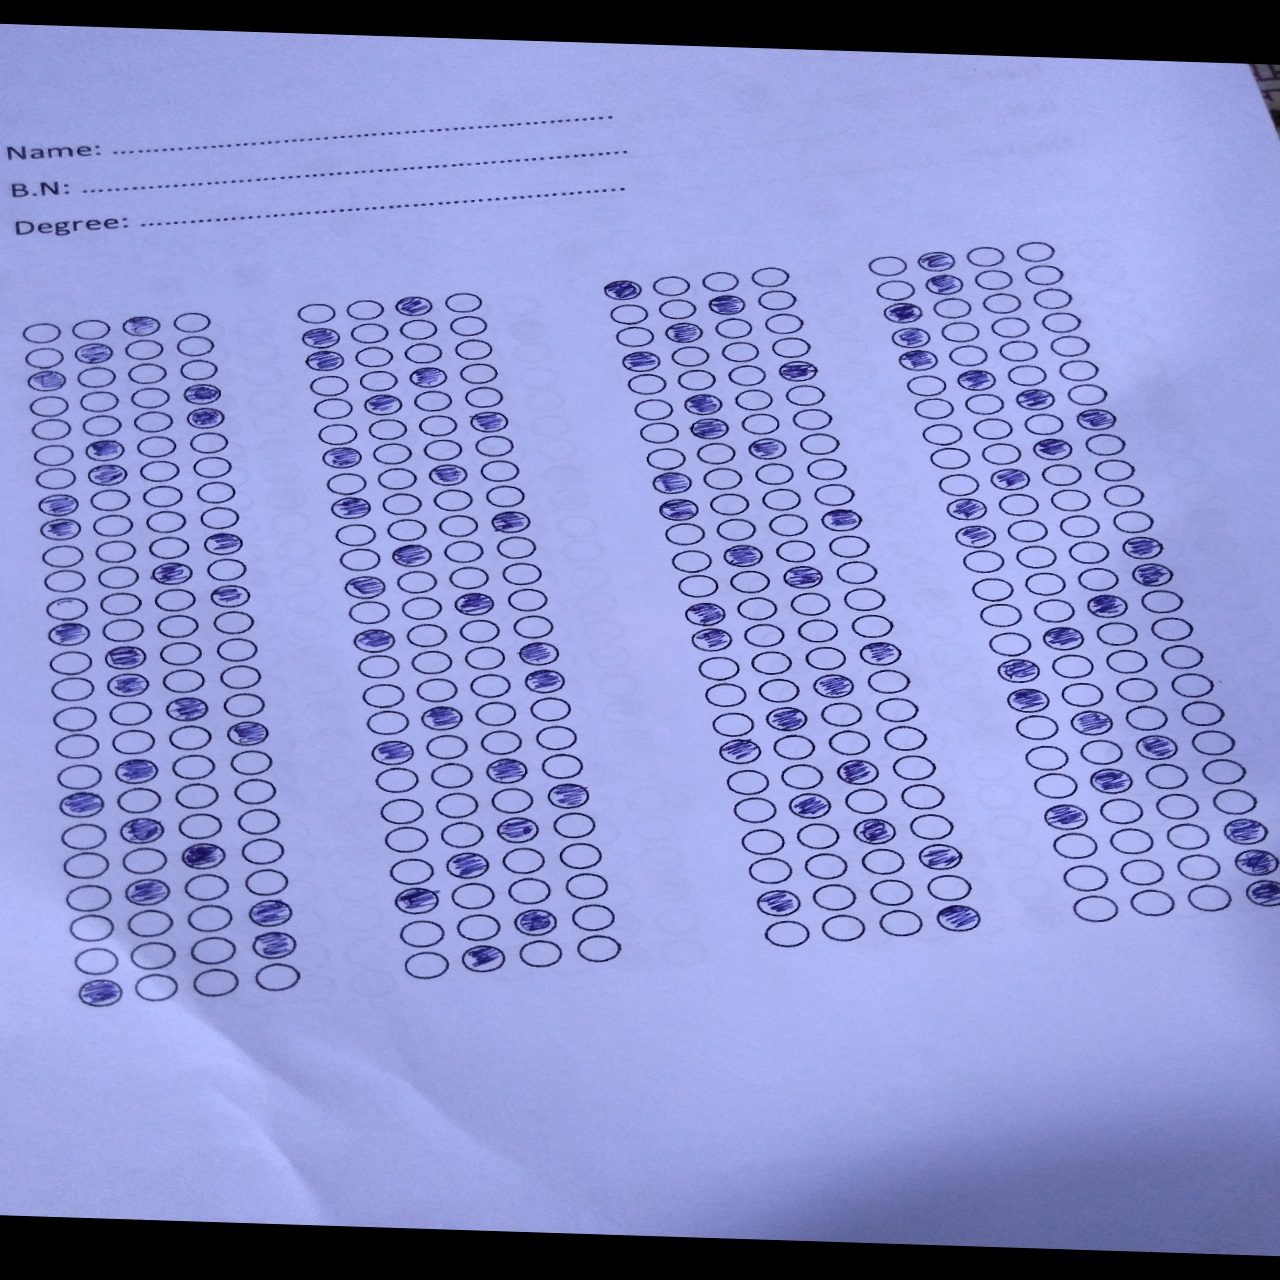not-c: (566, 903, 621, 933), (516, 939, 568, 971), (574, 932, 626, 964), (396, 915, 448, 947), (400, 949, 452, 980), (252, 961, 302, 992), (379, 825, 433, 853), (445, 881, 499, 910), (129, 940, 178, 971), (434, 821, 486, 849), (428, 792, 481, 821), (564, 873, 617, 901), (557, 840, 610, 869), (1103, 647, 1151, 678), (501, 847, 554, 874), (551, 811, 602, 839), (452, 913, 504, 941), (924, 872, 971, 903), (880, 721, 927, 751), (1190, 727, 1237, 757), (750, 647, 797, 678), (723, 765, 770, 796), (1142, 762, 1189, 792), (1073, 893, 1121, 922), (762, 919, 810, 948), (890, 753, 938, 782), (1169, 670, 1217, 700), (737, 828, 785, 857), (899, 781, 945, 811), (1180, 697, 1226, 728), (1014, 713, 1060, 743), (505, 877, 557, 904), (483, 787, 535, 813), (182, 873, 229, 903), (62, 850, 109, 879), (57, 821, 104, 850), (64, 883, 111, 912), (811, 881, 858, 911), (1128, 887, 1175, 917), (1108, 828, 1155, 857), (906, 811, 953, 840), (866, 877, 913, 906), (1164, 822, 1211, 851), (862, 846, 908, 876), (795, 822, 842, 851), (826, 728, 873, 757), (873, 693, 920, 722), (867, 668, 914, 697), (1151, 614, 1198, 644), (1123, 702, 1170, 731), (1201, 757, 1248, 787), (1023, 743, 1070, 772), (695, 653, 742, 682), (802, 644, 849, 673), (731, 796, 778, 825), (1076, 736, 1123, 765), (1097, 796, 1144, 825), (1155, 792, 1201, 822), (849, 612, 896, 641), (1051, 832, 1099, 860), (1175, 853, 1223, 881), (1160, 642, 1208, 670), (1092, 620, 1141, 648), (190, 968, 236, 998), (1119, 857, 1165, 886), (1061, 863, 1107, 892), (1212, 788, 1258, 817), (1185, 884, 1231, 913), (843, 785, 888, 815), (818, 701, 864, 730), (779, 762, 825, 791), (770, 731, 816, 761), (709, 708, 755, 737), (701, 681, 747, 710), (755, 675, 801, 704), (1051, 652, 1097, 681), (1061, 680, 1107, 709), (243, 869, 290, 897), (73, 946, 120, 974), (132, 973, 179, 1001), (125, 908, 172, 937), (876, 908, 922, 937), (803, 850, 850, 878), (745, 856, 792, 884), (1114, 676, 1160, 704), (985, 629, 1032, 658), (842, 584, 888, 612), (107, 697, 152, 726), (155, 639, 200, 667), (535, 724, 580, 753), (529, 695, 574, 723), (115, 785, 161, 813), (184, 904, 230, 932), (56, 763, 102, 791), (69, 913, 115, 941), (833, 558, 879, 586), (190, 937, 237, 964), (1032, 772, 1078, 799), (219, 663, 264, 692), (54, 731, 98, 760), (356, 653, 401, 681), (374, 765, 418, 794), (828, 533, 872, 561), (52, 704, 97, 731), (98, 617, 144, 644), (98, 590, 144, 617), (94, 561, 139, 588), (161, 667, 206, 694), (469, 672, 515, 699), (462, 644, 508, 670), (457, 617, 503, 644), (413, 676, 458, 703), (400, 595, 445, 622), (360, 682, 406, 709), (379, 797, 424, 824), (175, 782, 220, 809), (234, 808, 280, 835), (121, 847, 166, 874), (799, 617, 843, 645), (156, 613, 200, 640), (540, 753, 585, 779), (49, 675, 94, 702), (45, 595, 89, 622), (166, 724, 211, 751), (424, 733, 469, 760), (409, 648, 454, 675), (404, 620, 449, 647), (365, 708, 409, 735), (430, 762, 475, 789), (178, 812, 223, 839), (172, 753, 217, 779), (389, 858, 434, 885), (969, 577, 1014, 604), (961, 550, 1006, 577), (871, 275, 915, 302), (445, 561, 490, 588), (394, 568, 440, 594), (733, 595, 778, 621), (1080, 433, 1125, 458), (447, 564, 492, 590), (75, 365, 118, 392), (50, 649, 94, 676), (113, 728, 156, 755), (760, 486, 803, 513), (930, 445, 973, 472), (978, 440, 1021, 467), (224, 692, 268, 717), (216, 636, 260, 662), (481, 728, 525, 754), (472, 700, 517, 726), (512, 611, 557, 636), (239, 838, 284, 864), (227, 750, 272, 776), (979, 602, 1023, 628), (1032, 597, 1076, 622), (788, 590, 832, 615), (804, 456, 849, 482), (767, 510, 811, 536), (772, 537, 817, 563), (697, 268, 742, 294), (1110, 509, 1155, 535), (1065, 540, 1110, 566), (694, 441, 738, 467), (699, 467, 743, 492), (714, 516, 758, 542), (660, 522, 704, 547), (1039, 309, 1083, 335), (1022, 261, 1067, 287), (993, 493, 1037, 519), (939, 318, 983, 343), (1058, 358, 1103, 383), (178, 358, 220, 384), (1051, 486, 1094, 513), (1101, 483, 1146, 508), (918, 421, 964, 445), (170, 309, 213, 335), (122, 335, 165, 361), (212, 610, 256, 635), (232, 778, 275, 804), (1024, 571, 1068, 597), (728, 568, 771, 594), (755, 463, 798, 489), (1141, 590, 1184, 615), (709, 490, 753, 516), (676, 573, 720, 599), (911, 395, 954, 421), (1094, 457, 1137, 483), (29, 393, 70, 420), (42, 542, 83, 568), (1014, 545, 1058, 570), (1075, 567, 1119, 592), (742, 622, 787, 647), (1048, 333, 1092, 358), (749, 264, 794, 288), (931, 297, 975, 321), (1067, 383, 1111, 408), (345, 297, 387, 322), (294, 299, 336, 325), (20, 319, 62, 345), (903, 372, 945, 397), (798, 431, 840, 457), (505, 586, 549, 611), (348, 599, 392, 624), (1007, 518, 1050, 543), (813, 482, 857, 506), (1058, 515, 1102, 539), (937, 474, 980, 498), (644, 445, 687, 470), (1032, 286, 1075, 311), (865, 252, 908, 277), (1040, 463, 1083, 488), (947, 343, 990, 368), (964, 392, 1007, 416), (971, 417, 1014, 442), (72, 316, 113, 342), (433, 488, 474, 513), (418, 414, 459, 440), (452, 338, 493, 363), (89, 486, 130, 512), (136, 434, 177, 459), (191, 454, 232, 479), (335, 522, 376, 547), (45, 566, 86, 592), (1024, 413, 1069, 436), (998, 339, 1042, 362), (980, 293, 1024, 316), (22, 343, 64, 368), (154, 586, 196, 611), (669, 343, 712, 368), (738, 411, 781, 436), (307, 373, 347, 399), (353, 343, 393, 369), (209, 556, 248, 581), (1005, 365, 1050, 387), (668, 549, 712, 572), (316, 421, 358, 445), (399, 318, 440, 342), (478, 458, 519, 483), (462, 384, 503, 409), (38, 467, 79, 491), (79, 389, 120, 414), (142, 483, 183, 508), (377, 467, 418, 491), (501, 561, 542, 586), (496, 536, 537, 560), (486, 483, 527, 508), (731, 388, 774, 411), (712, 316, 754, 340), (784, 383, 826, 407), (625, 372, 667, 395), (367, 416, 407, 441), (186, 430, 226, 455), (127, 360, 166, 384), (402, 340, 442, 365), (474, 433, 513, 457), (442, 290, 482, 314), (82, 414, 122, 438), (139, 458, 179, 483), (381, 490, 421, 515), (372, 442, 411, 467), (149, 536, 189, 560), (639, 421, 679, 445), (388, 518, 428, 543), (971, 268, 1014, 291), (989, 315, 1033, 338), (347, 321, 388, 345), (130, 384, 171, 408), (411, 390, 452, 414), (422, 438, 463, 462), (30, 418, 72, 442), (198, 505, 239, 529), (325, 472, 366, 496), (96, 539, 137, 563), (340, 546, 381, 570), (719, 339, 760, 362), (791, 407, 832, 430), (675, 367, 716, 390), (649, 274, 690, 298), (610, 325, 651, 348), (610, 301, 651, 325), (632, 397, 674, 420), (315, 396, 355, 420), (132, 409, 172, 433), (358, 368, 397, 392), (450, 315, 490, 339), (34, 443, 74, 467), (93, 512, 132, 536), (147, 509, 186, 532), (196, 479, 236, 503), (444, 539, 484, 563), (438, 515, 478, 538), (1016, 239, 1056, 263), (756, 290, 796, 313), (763, 313, 803, 336), (173, 335, 215, 358), (654, 297, 695, 319), (726, 363, 765, 386), (770, 335, 810, 358), (966, 244, 1006, 266), (459, 362, 498, 384)
taken-c: (459, 942, 509, 973), (248, 897, 294, 928), (250, 930, 297, 960), (76, 978, 123, 1008), (679, 598, 726, 628), (818, 504, 865, 535), (178, 842, 226, 871), (787, 791, 835, 821), (855, 638, 903, 667), (918, 842, 964, 872), (935, 903, 982, 932), (1232, 847, 1279, 877), (1039, 802, 1085, 831), (754, 888, 801, 918), (1005, 685, 1051, 714), (1133, 734, 1180, 763), (715, 737, 762, 767), (765, 704, 812, 734), (835, 756, 881, 785), (952, 520, 999, 550), (719, 542, 765, 571), (687, 627, 734, 656), (57, 791, 105, 819), (124, 879, 172, 907), (395, 886, 441, 915), (850, 816, 896, 845), (809, 670, 855, 700), (779, 563, 825, 592), (1069, 710, 1116, 738), (1088, 765, 1135, 794), (1040, 622, 1087, 651), (1129, 560, 1176, 588), (117, 818, 165, 845), (995, 656, 1041, 685), (511, 908, 557, 935), (496, 816, 542, 843), (418, 704, 464, 731), (115, 757, 159, 784), (445, 852, 490, 879), (546, 782, 591, 809), (1223, 818, 1268, 844), (226, 719, 270, 745), (107, 670, 150, 697), (370, 738, 414, 765), (209, 583, 251, 610), (38, 516, 80, 543), (36, 491, 79, 518), (104, 644, 147, 670), (1085, 592, 1128, 619), (1121, 535, 1163, 561), (300, 324, 343, 349), (25, 367, 68, 393), (352, 628, 395, 654), (149, 560, 192, 586), (361, 392, 404, 417), (485, 757, 529, 783), (954, 367, 998, 393), (394, 294, 437, 320), (491, 508, 532, 535), (1242, 879, 1280, 908), (518, 640, 560, 666), (83, 436, 125, 462), (454, 592, 496, 618), (342, 574, 384, 600), (467, 407, 509, 433), (302, 346, 345, 372), (47, 621, 89, 647), (1014, 386, 1056, 411), (72, 341, 115, 366), (120, 312, 161, 338), (181, 380, 222, 406), (392, 543, 433, 568), (331, 496, 372, 522), (428, 463, 469, 489), (202, 531, 243, 557), (86, 462, 127, 488), (185, 404, 227, 429), (321, 445, 363, 470), (407, 365, 449, 389), (165, 696, 207, 721), (888, 325, 931, 349), (946, 497, 988, 520), (649, 471, 692, 495), (776, 359, 818, 382), (686, 417, 728, 441), (989, 468, 1032, 491), (601, 278, 644, 301), (706, 294, 748, 318), (914, 250, 956, 273), (897, 348, 939, 372), (658, 498, 699, 522), (1032, 437, 1073, 461), (1074, 409, 1115, 433), (922, 273, 964, 297), (881, 301, 924, 324), (681, 392, 721, 415), (663, 321, 704, 343), (620, 350, 661, 373), (749, 438, 791, 459)
